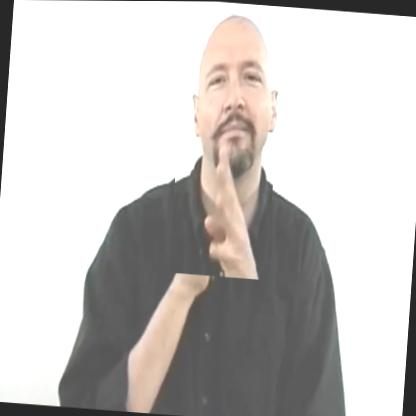Talk: (168, 11, 284, 280)
